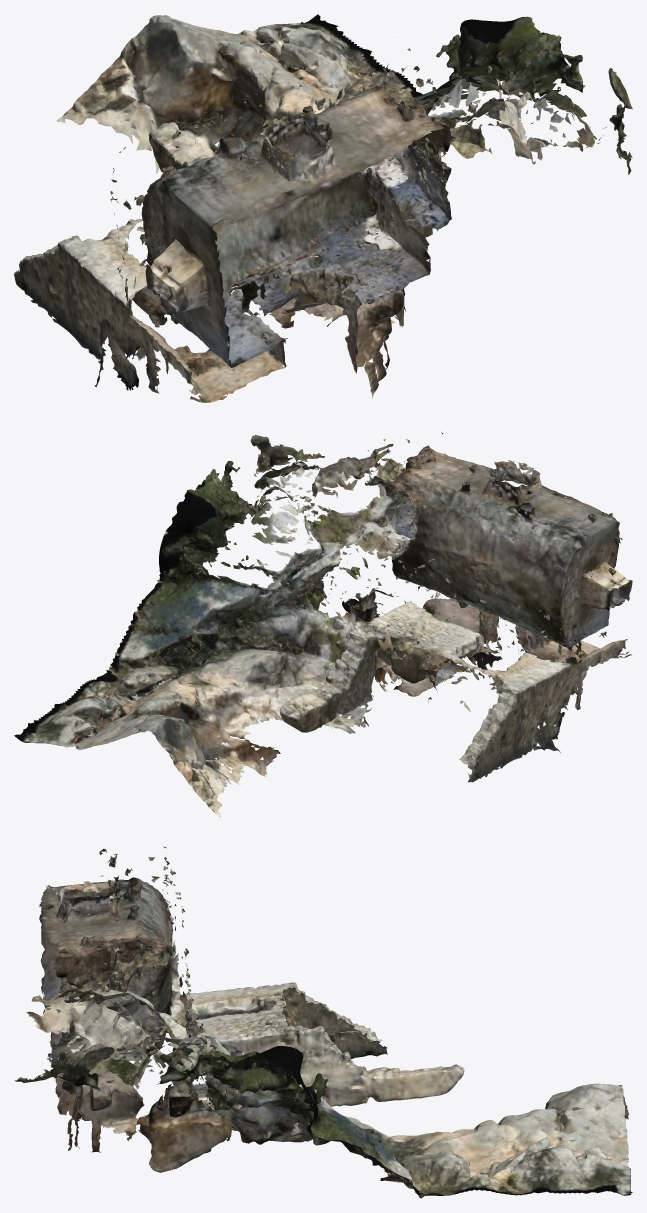
3 renders of one model, top to bottom at view 1: azimuth 30°, elevation 25°; view 2: azimuth 150°, elevation 25°; view 3: azimuth 270°, elevation 25°, orthographic. The views are drawn at different scales.
Bounding box in the file's own units: 10.38 × 6.3 × 13.24.
1 material, 1 textured.
